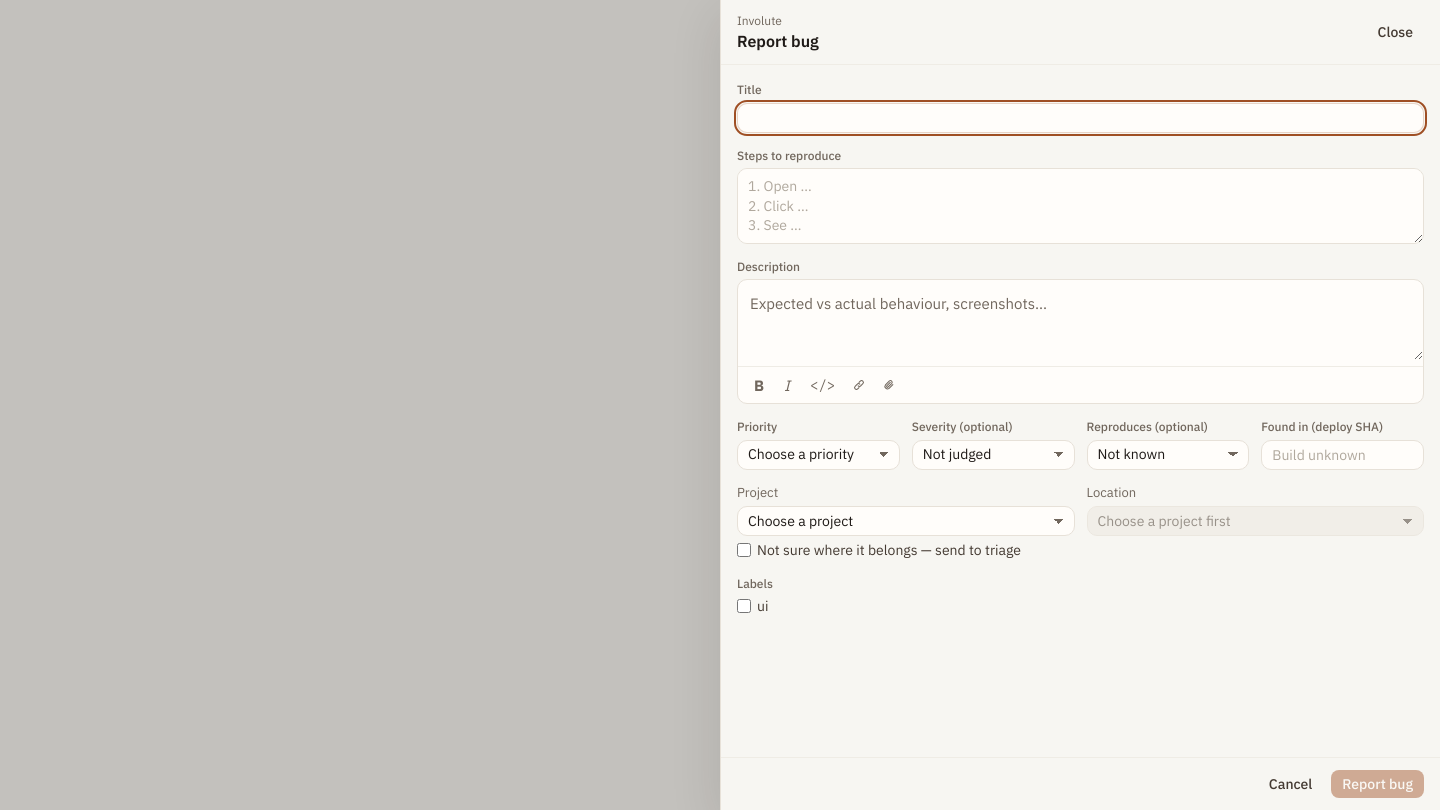
Test case: ReportBugDialog (INV-749) › sends a bug to triage when the reporter is not sure where it belongs
Type "Crash on drag" into the field named "Bug title".
click(1080, 118); type("Crash on drag")  # box [737,103,1424,133]
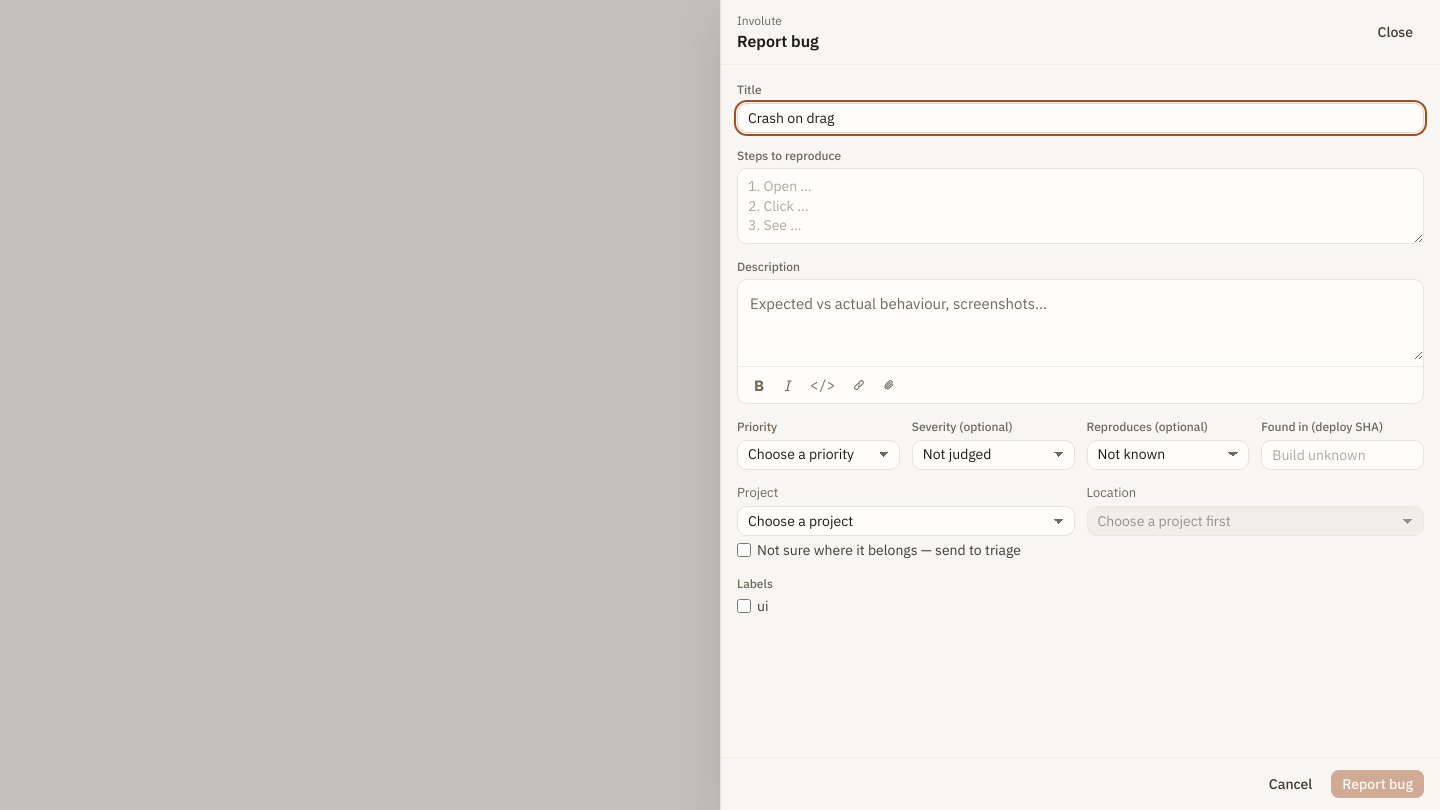
Type "1. Drag a card" into the text box labelled "Steps to reproduce".
click(1080, 206); type("1. Drag a card")  # box [737,168,1424,244]
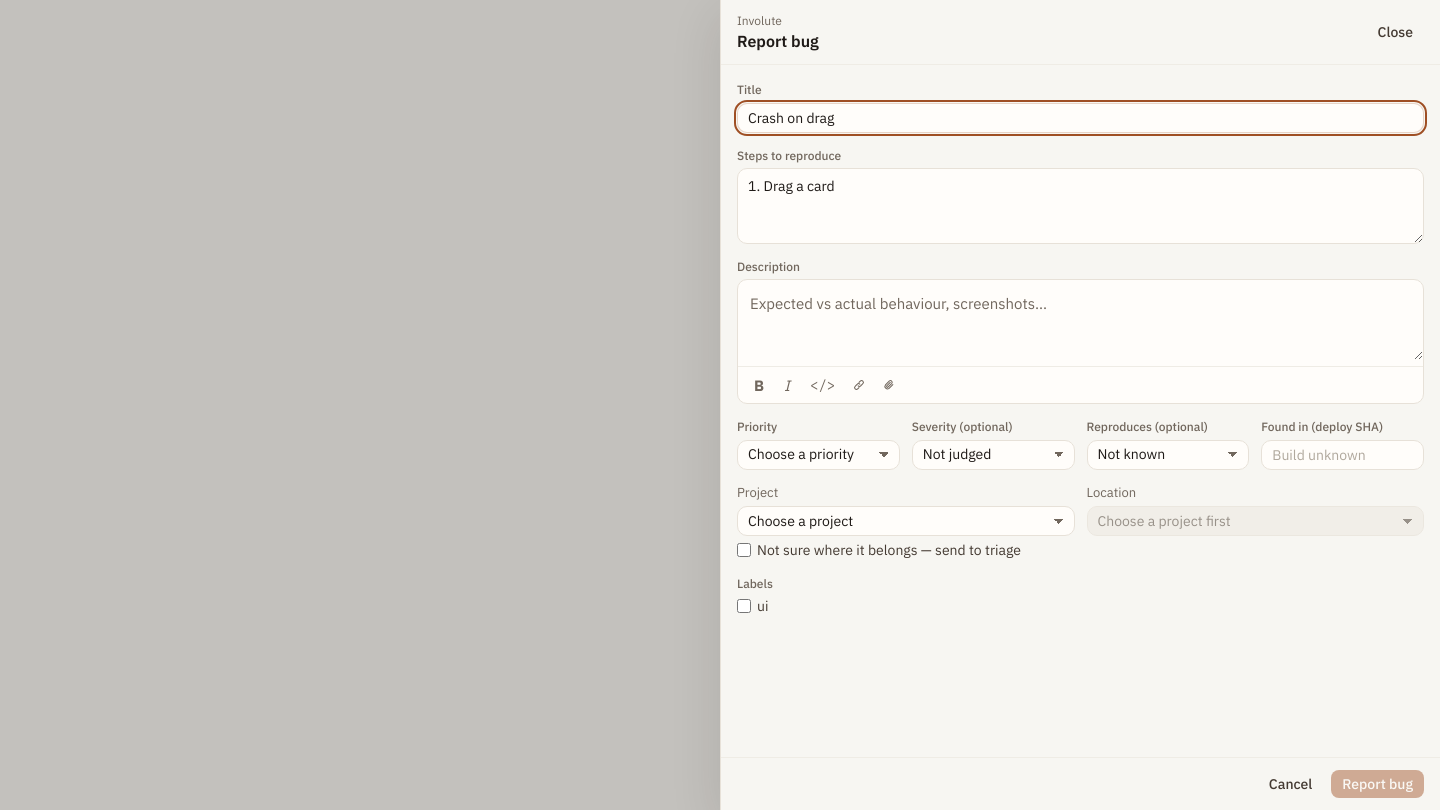
Select "Urgent" in the dropdown named "Bug priority" at (818,454), box [737,440,900,470]
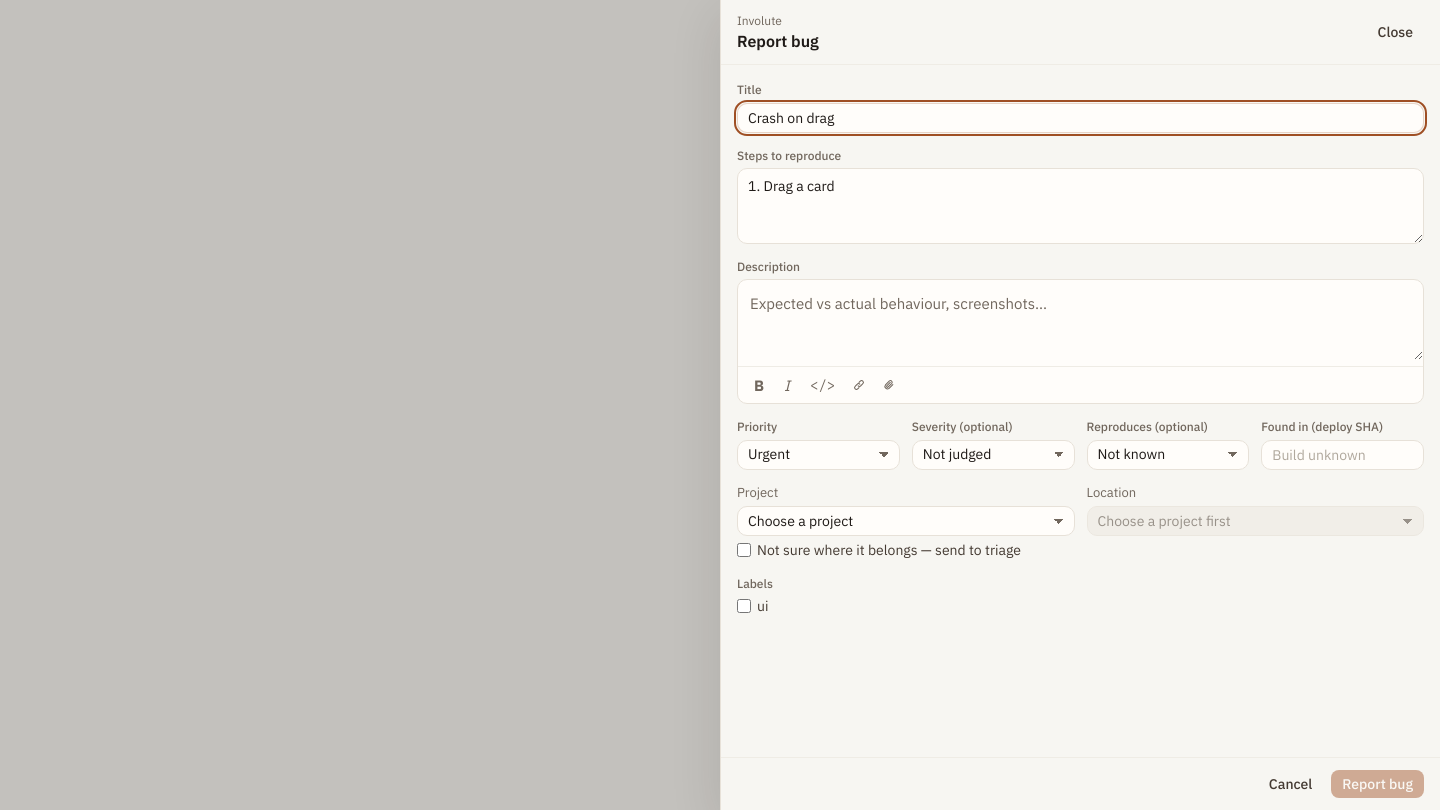
Click the checkbox labelled "Not sure where it belongs — send to triage".
click(744, 550)  # box [737,543,751,557]
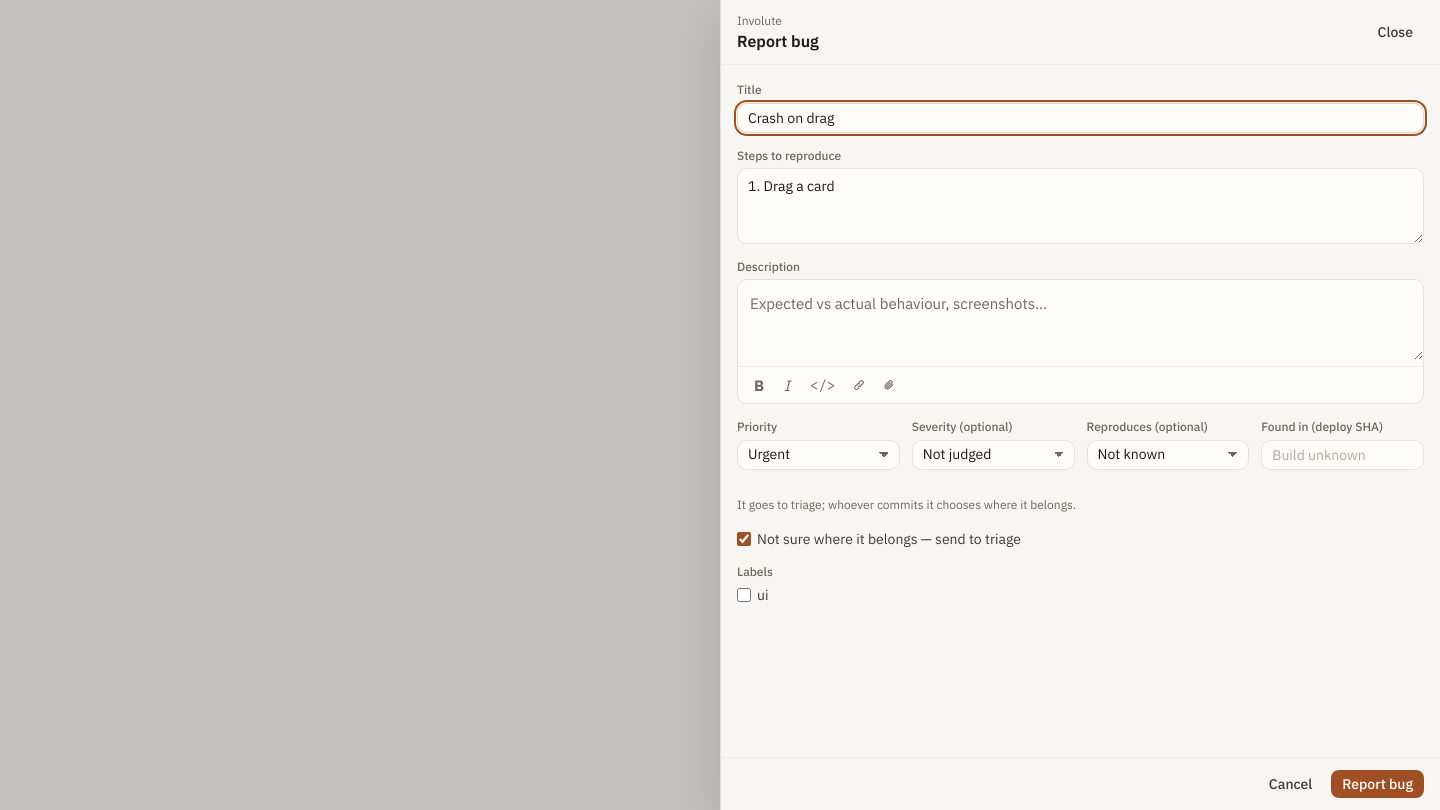
Expected: the text labelled "Project" is gone
Click the button "Report bug".
click(1378, 784)  # box [1331,770,1424,798]
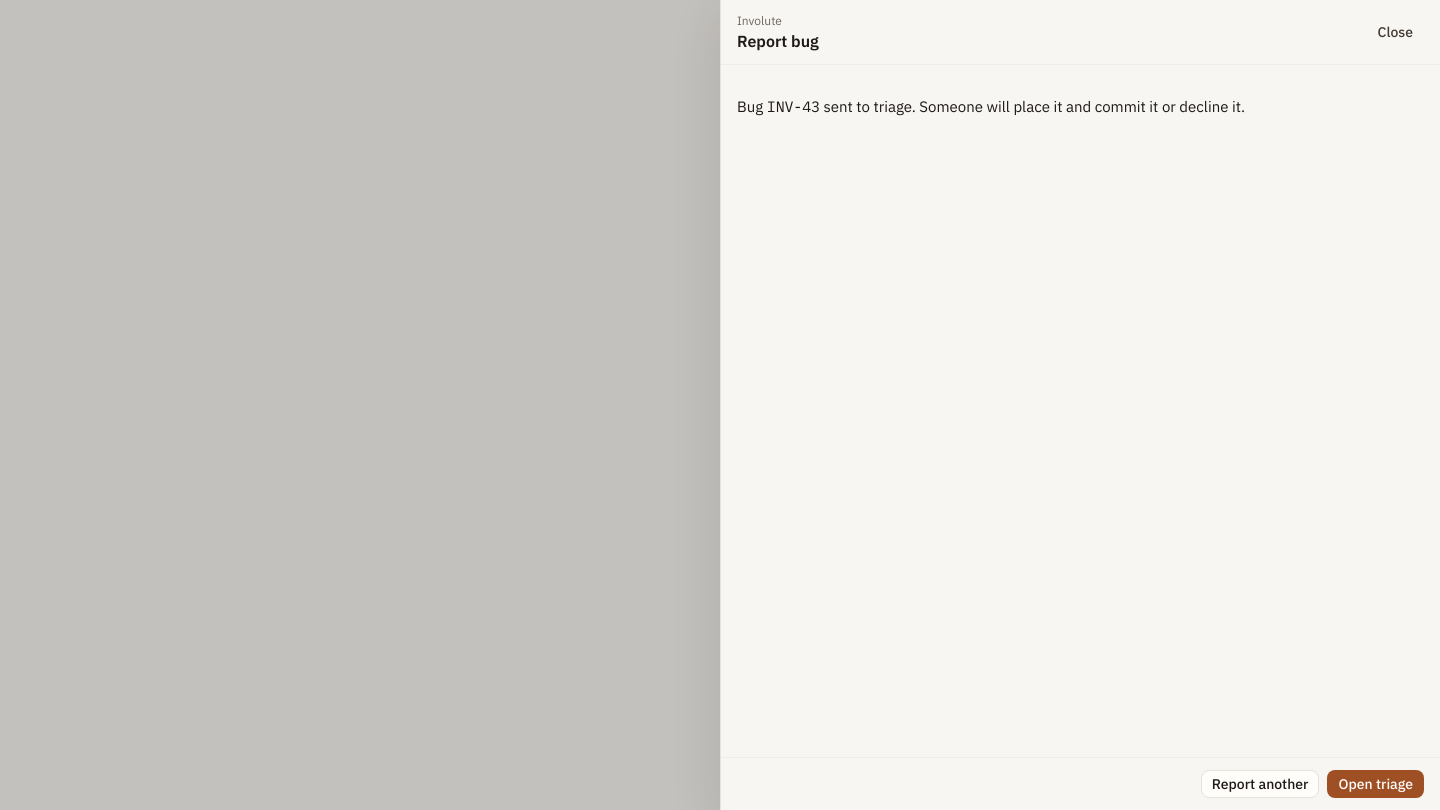
Expected: the message shows "INV-43 sent to triage", [737,97,1245,116]
